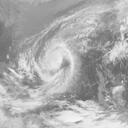cyclone: (28, 40, 76, 89)
